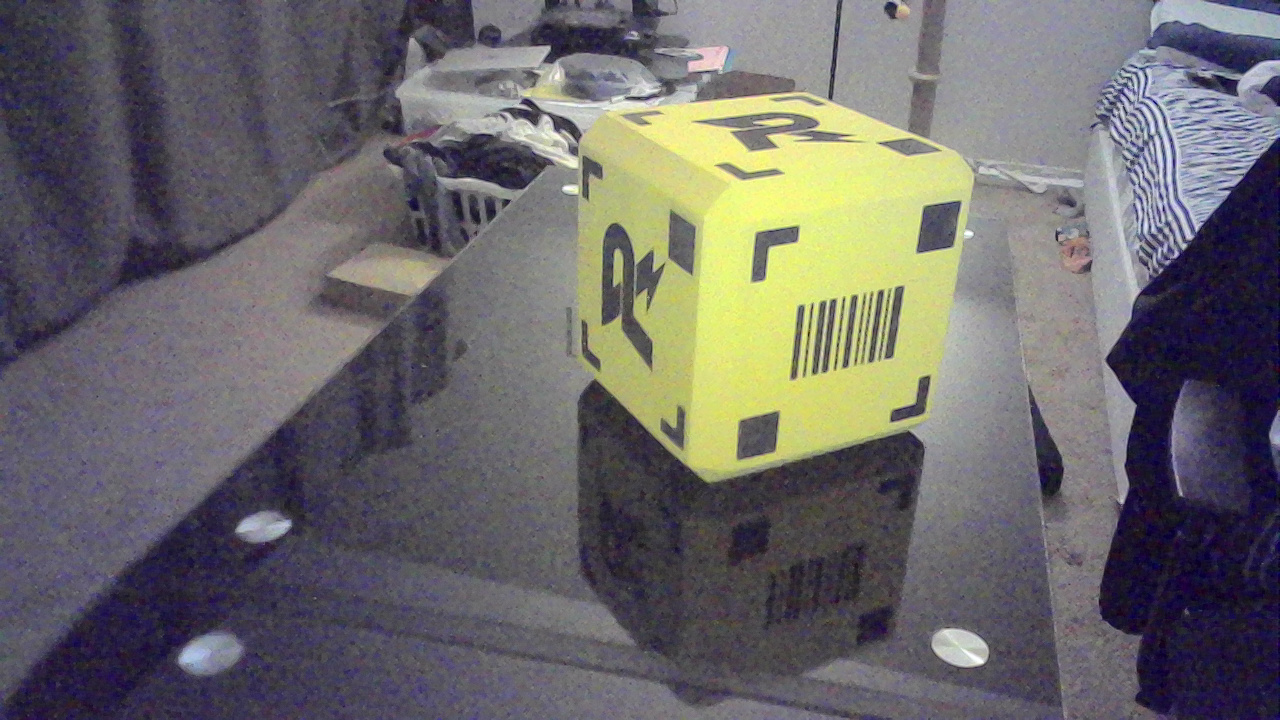Barcode: (786, 296, 922, 386)
R: (585, 219, 684, 372), (704, 111, 867, 157)
